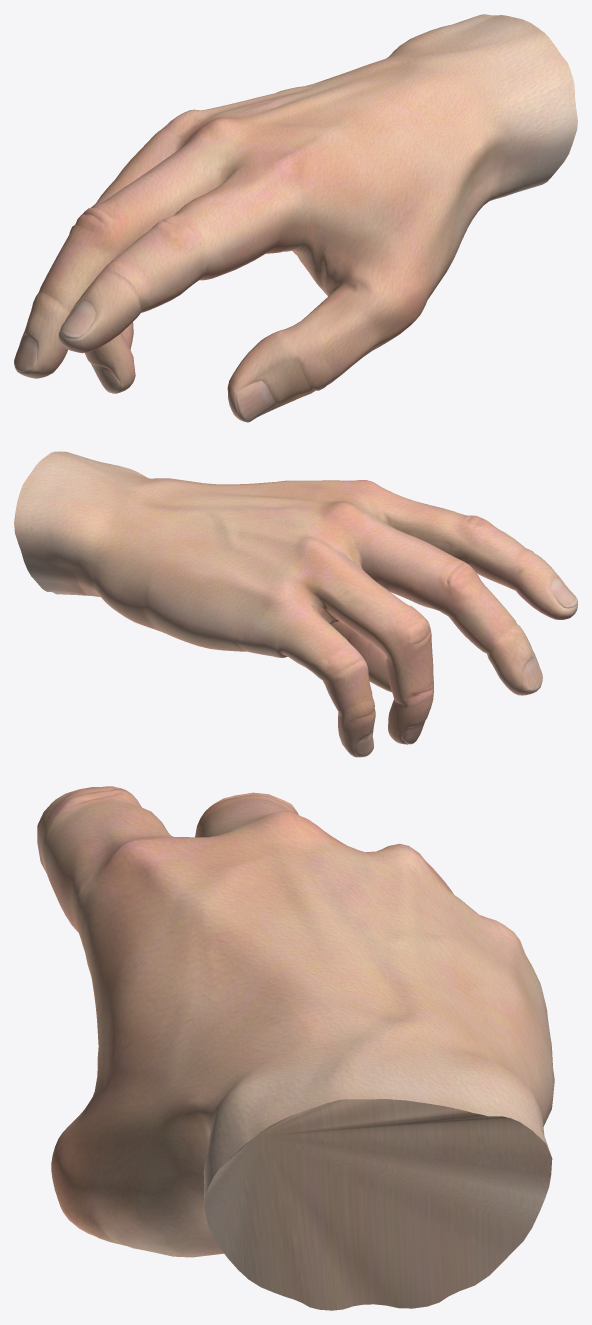
Rendered from hand_40.obj.
3 renders of one model, top to bottom at view 1: azimuth 30°, elevation 25°; view 2: azimuth 150°, elevation 25°; view 3: azimuth 270°, elevation 25°, orthographic. The views are drawn at different scales.
Visible parts, largest first — view 1: Figure_2; view 2: Figure_2; view 3: Figure_2.
Boxes of the visible parts, x1,y1,x2,y2 form: Figure_2: [14, 14, 577, 422]; Figure_2: [14, 451, 577, 757]; Figure_2: [37, 786, 554, 1310].
Size of the model in its own units: 0.8309 by 0.3665 by 0.4036.
Materials: 2 (2 with a texture image).
